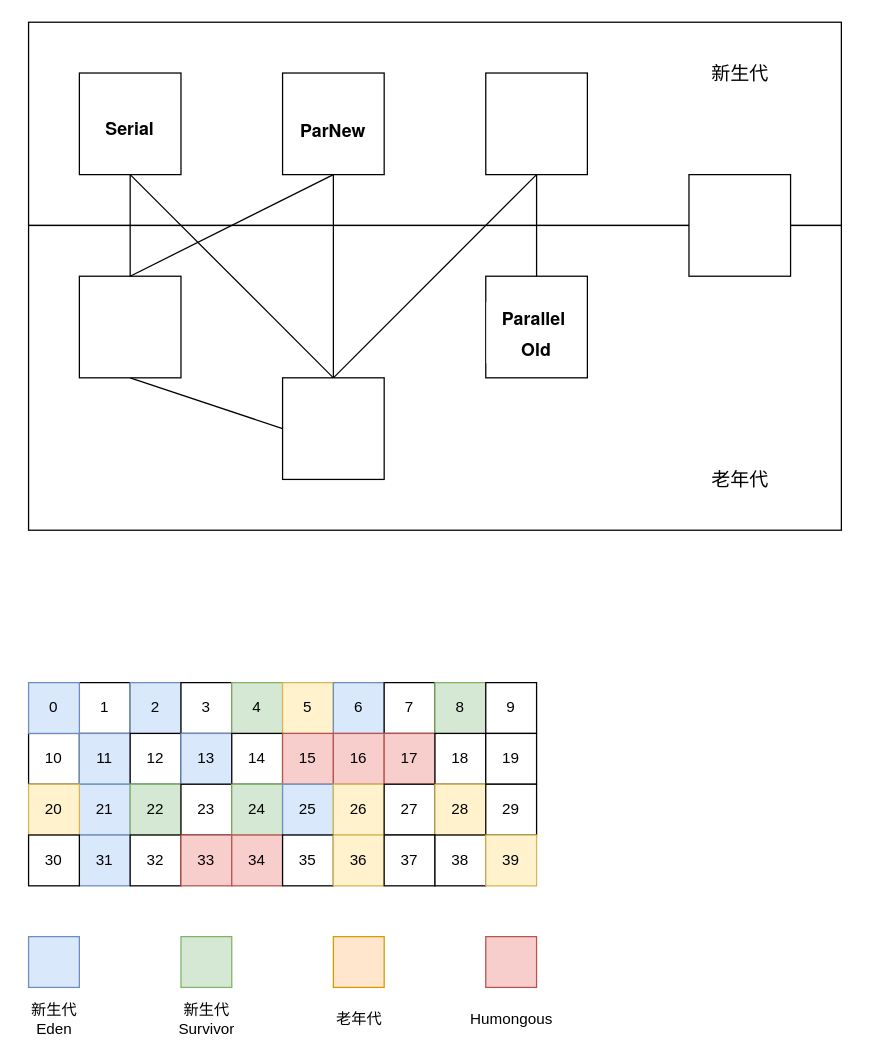
The diagram is 875 pixels wide and 1060 high, and some of its shapes have lost their labels. Each missing label, with the centre of its shape:
"CMS" belongs at point (129, 326).
"G1" belongs at point (739, 224).
"Parallel Scavenge" belongs at point (536, 123).
"Serial Old（MSC）" belongs at point (332, 428).
